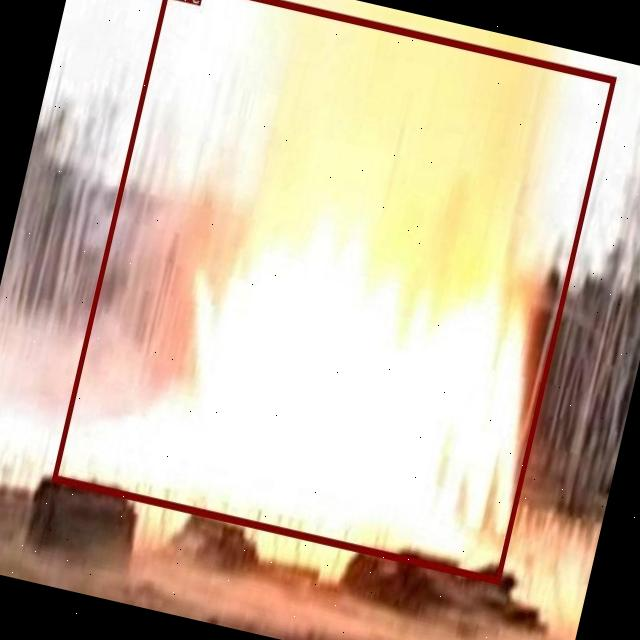fire: (50, 0, 615, 582)
